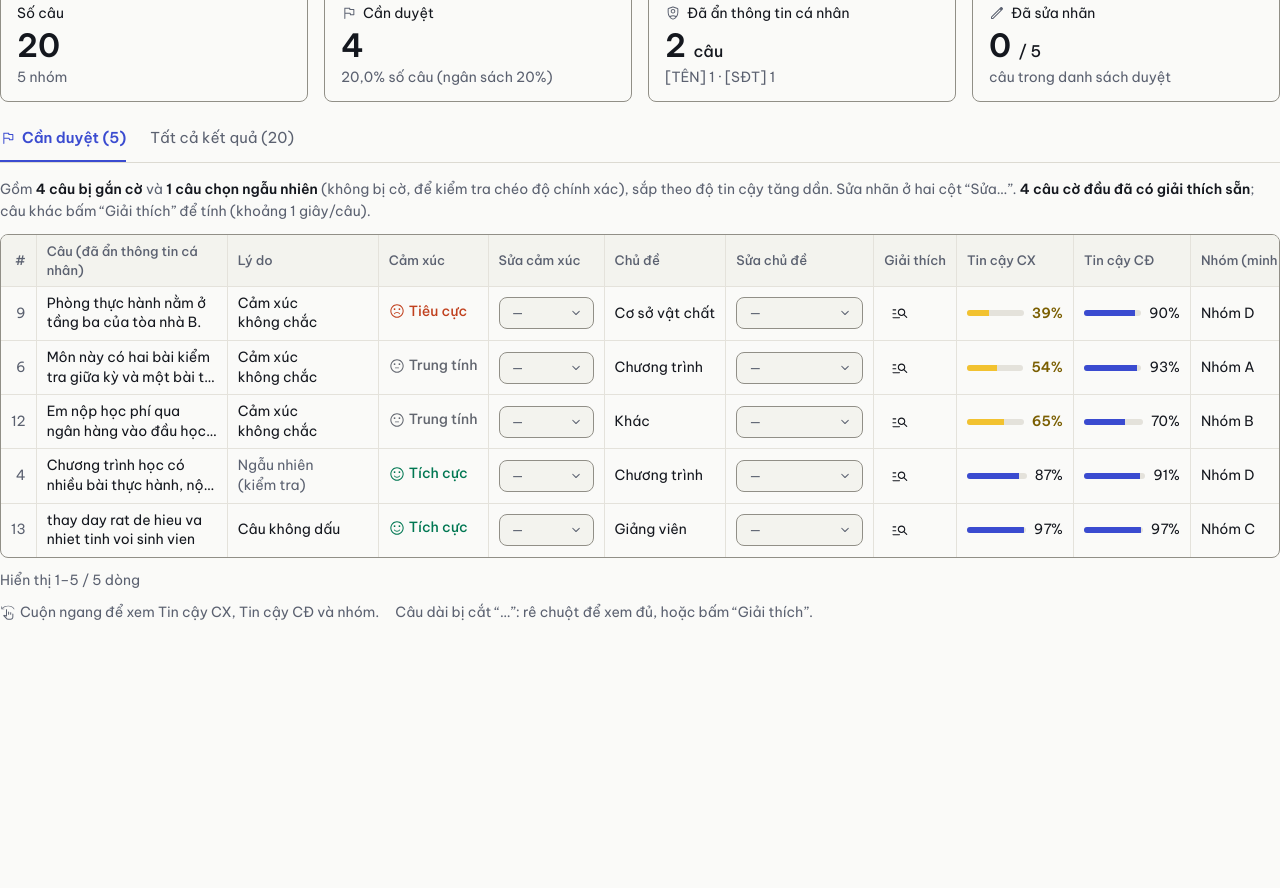
Test case: ResultsSection (dữ liệu thật) › câu quá dài ghi rõ số từ ở cột Lý do để hiểu vì sao không tô được
Click the tab "Tất cả kết quả (20)": (222, 140) x1=150 y1=118 x2=294 y2=163
(page scrolled)
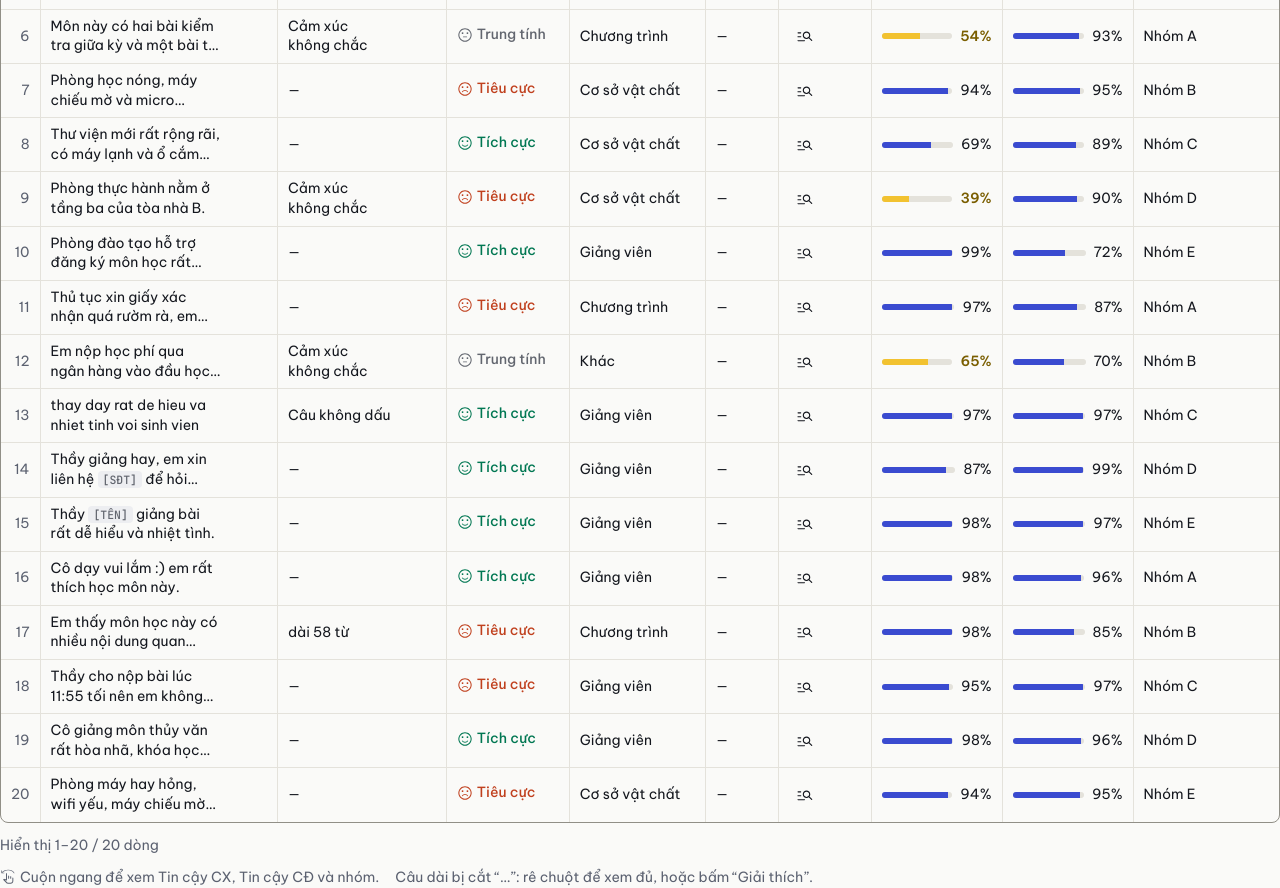
expect the text "dài 58 từ" is shown: met, box x1=288 y1=623 x2=349 y2=641
